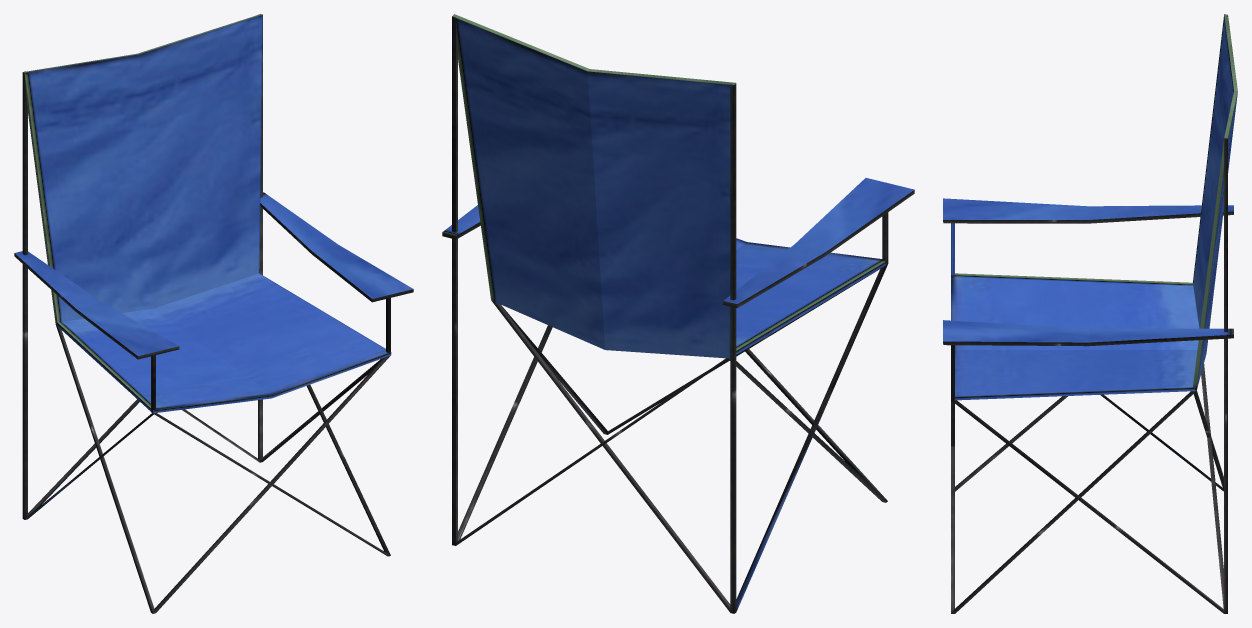
File: CampingChair01A.obj
3 views of the same model, side by side, from view 1: azimuth 30°, elevation 25°; view 2: azimuth 150°, elevation 25°; view 3: azimuth 270°, elevation 25° (orthographic). The views are drawn at different scales.
Visible parts, largest first — view 1: CampingChair01A; view 2: CampingChair01A; view 3: CampingChair01A.
Part boxes in pixels (box(x1,y1,x2,y2)): CampingChair01A: box(14, 14, 413, 613); CampingChair01A: box(442, 14, 914, 613); CampingChair01A: box(943, 14, 1237, 613).
Size of the model in its own units: 1.07 by 1.66 by 0.9311.
